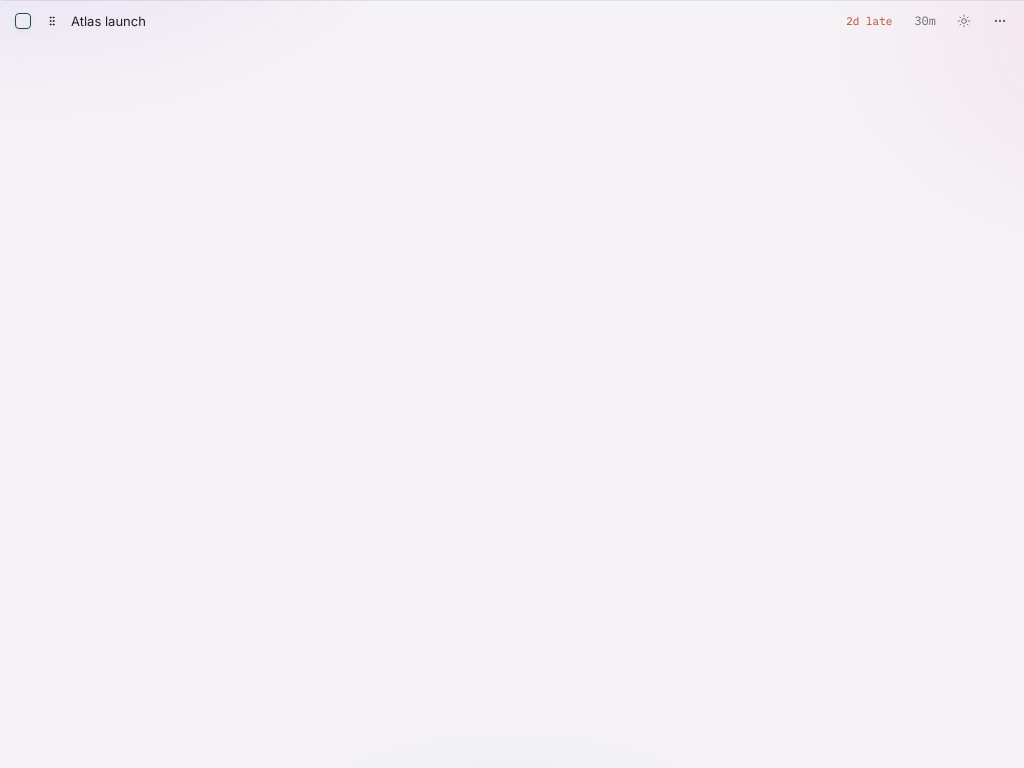
TaskRow — quiet row (chunk 71) › (6) ⋯ → Edit reminder on a due-chip row opens the reminder picker, anchor-only
Press Enter in the button named "Actions for \"Atlas launch\"", box [988,9,1012,33]
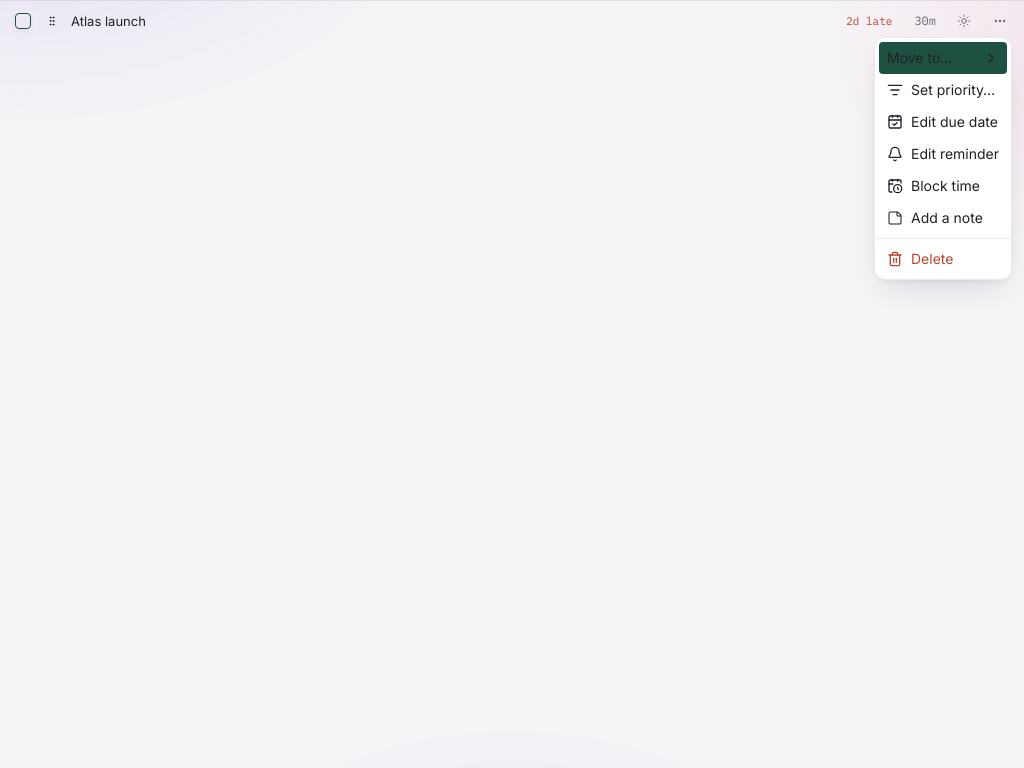
Click the menu item "Edit reminder" at (943, 154), box [887,145,999,162]
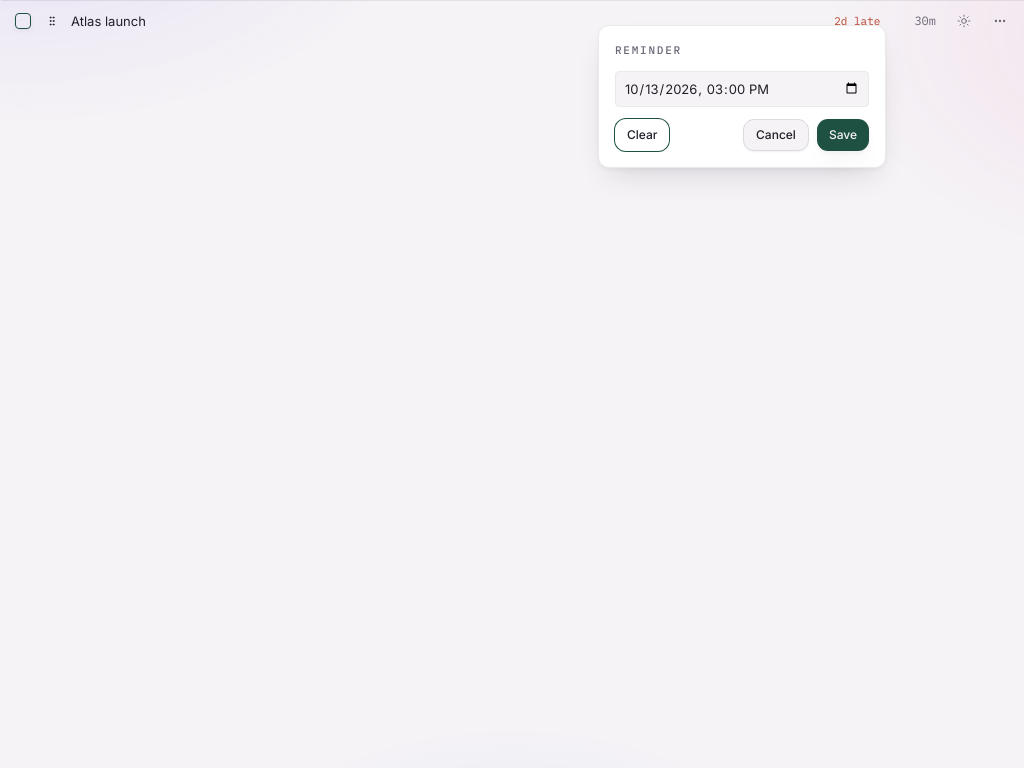
Expected: the number of buttons "2d late" is 1, [828,9,886,33]
Expected: the field named "Reminder date and time" is shown, [615,70,869,106]
